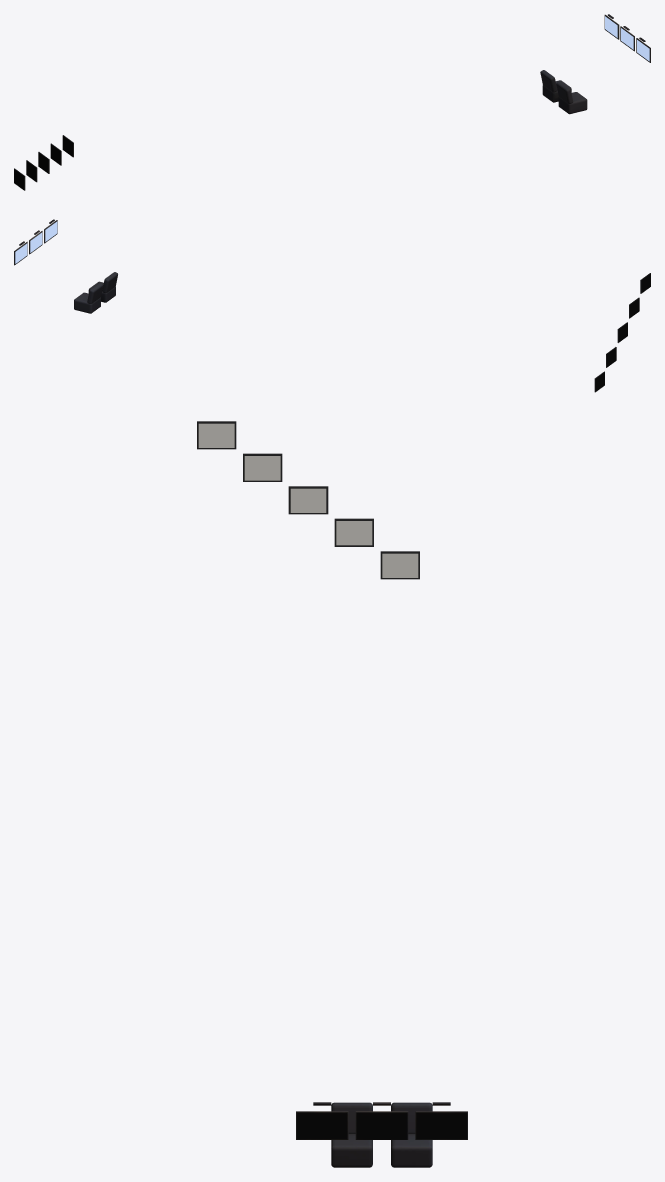
The model's file is gallery.glb.
3 views of the same model, one above another, from view 1: azimuth 30°, elevation 25°; view 2: azimuth 150°, elevation 25°; view 3: azimuth 270°, elevation 25° (orthographic). The views are drawn at different scales.
Parts seen in each view (by area): view 1: gallery_baked; view 2: gallery_baked; view 3: gallery_baked.
Part boxes in pixels (x1,y1,x2,y2): gallery_baked: (14, 14, 650, 190); gallery_baked: (14, 219, 650, 392); gallery_baked: (197, 421, 467, 1167).
Size of the model in its own units: 22 by 4.45 by 4.54.
4 materials, 1 textured.
